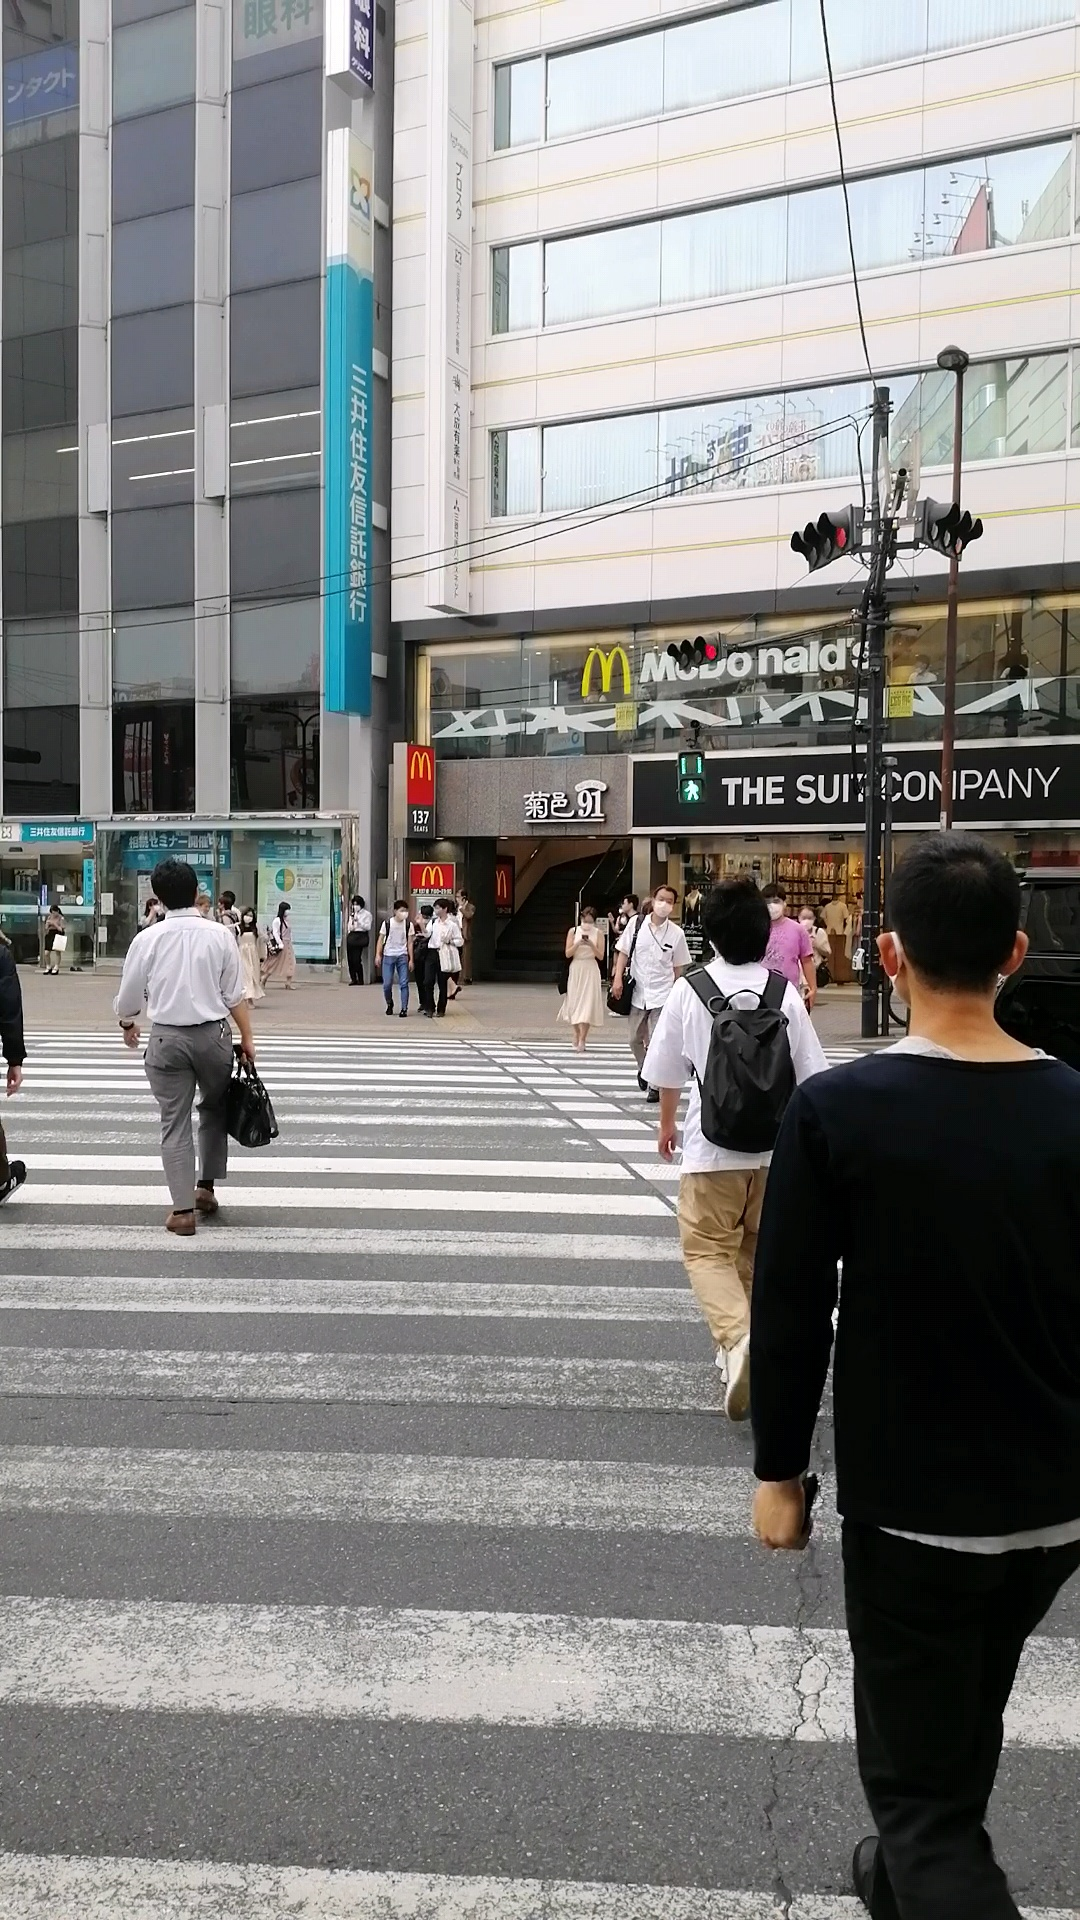green: (676, 750, 707, 802)
